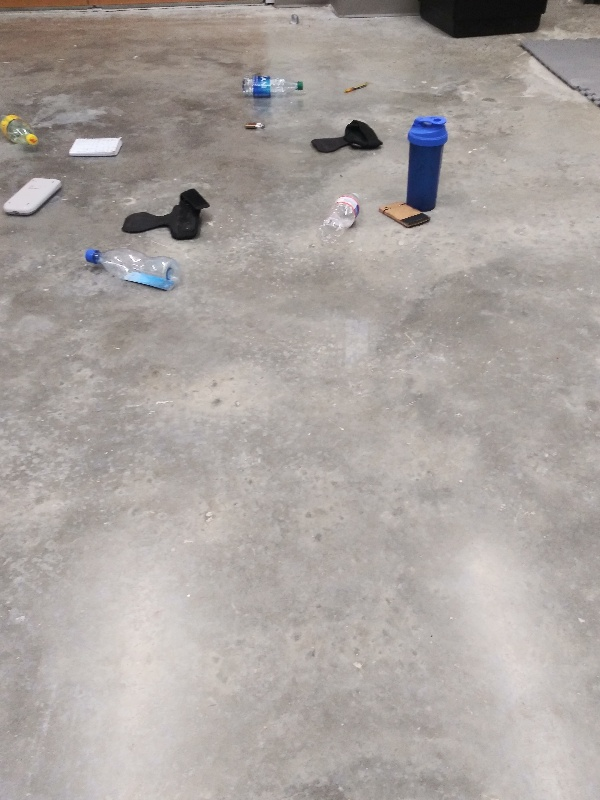bottle: (81, 243, 182, 293), (316, 187, 367, 248), (230, 73, 305, 102), (1, 108, 43, 149)
